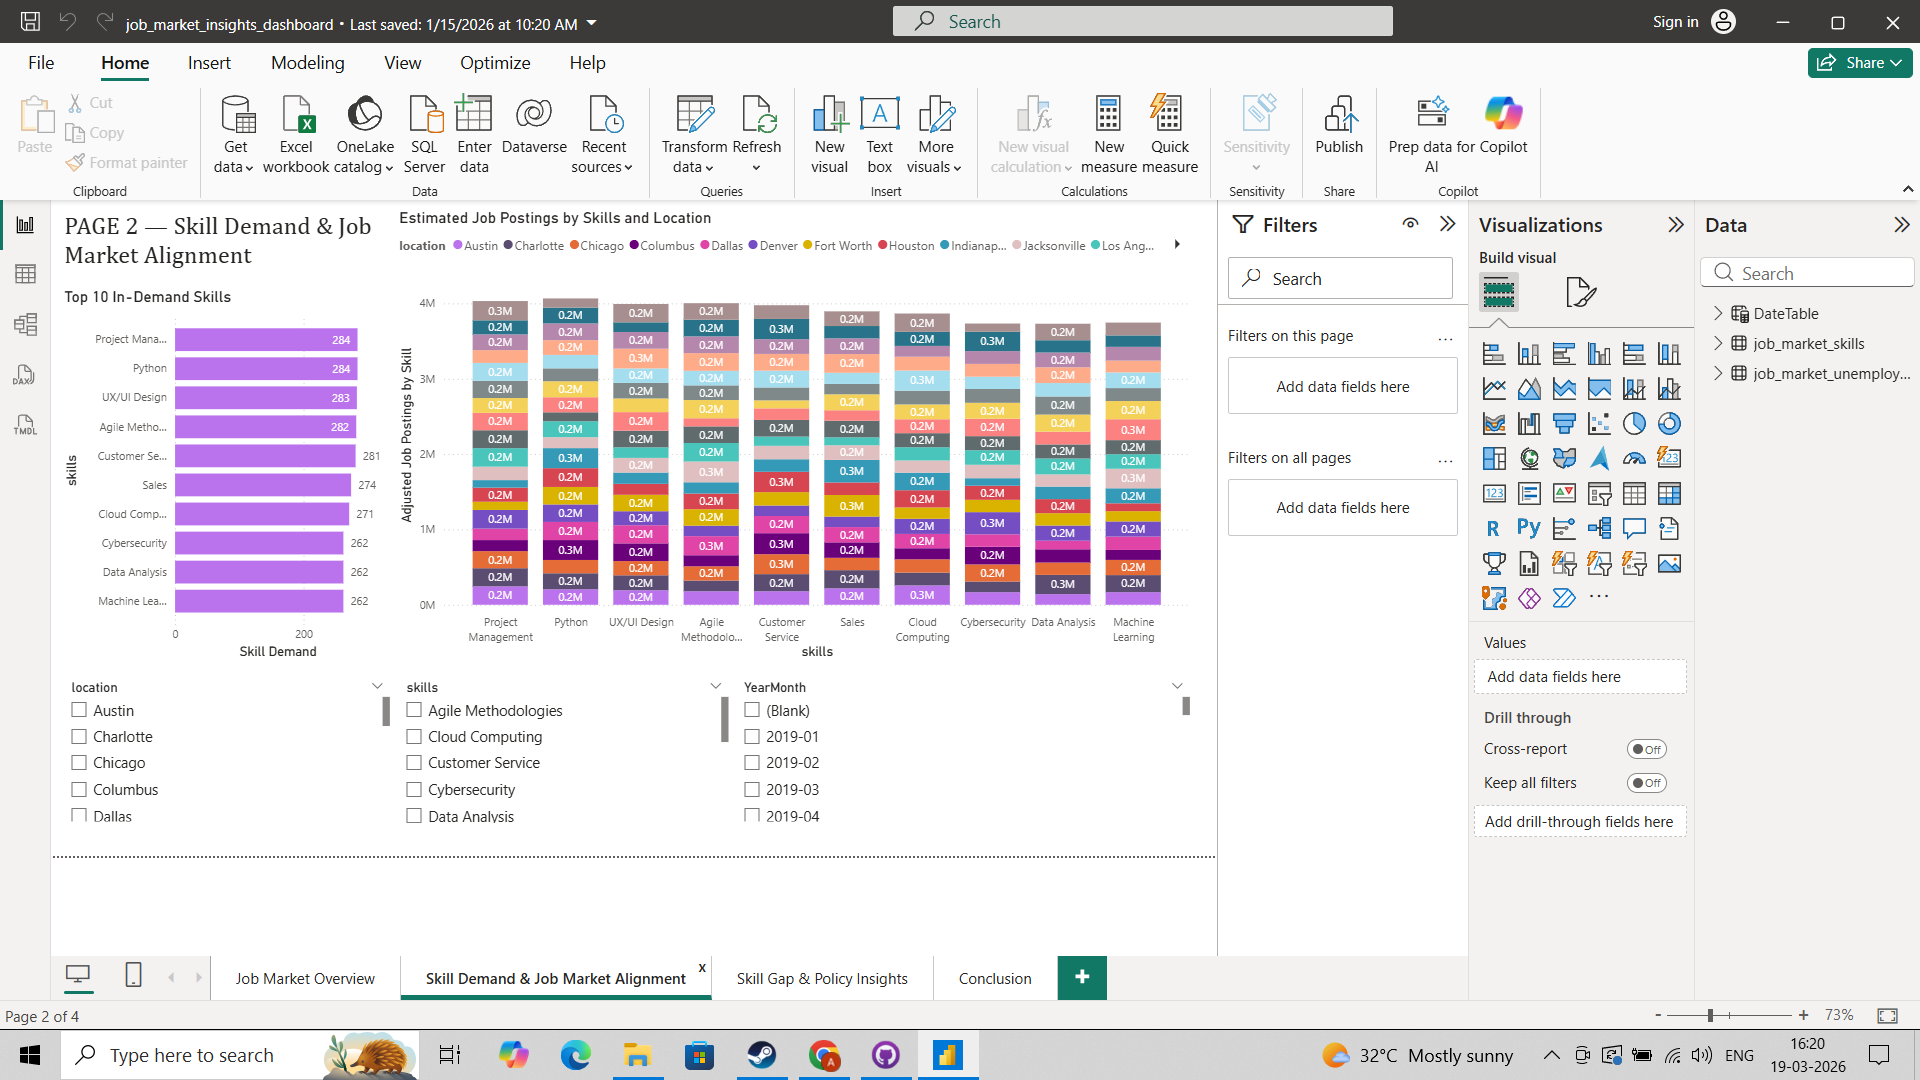

Layout of this report page (visuals, bound fields, positions):
{"tool":"powerbi","page":{"name":"Skill Demand & Job Market Alignment","canvas":[1280,720],"ordinal":1},"visuals":[{"type":"barChart","title":"Top 10 In-Demand Skills","fields":{"Category":["job_market_skills.skills"],"Y":["job_market_skills.Skill Demand"]},"box":[9.6,96.1,367.8,413],"z":0},{"type":"columnChart","title":"Estimated Job Postings by Skills and Location","fields":{"Category":["job_market_skills.skills"],"Series":["job_market_skills.location"],"Y":["job_market_unemployment_trends.Adjusted Job Postings by Skill"]},"box":[377.4,9.6,878.2,499.5],"z":1000},{"type":"slicer","fields":{"Values":["job_market_skills.skills"]},"box":[377.1,521.4,371.4,167.1],"z":2000},{"type":"slicer","fields":{"Values":["job_market_unemployment_trends.location"]},"box":[9.6,521.4,367.8,166],"z":3000},{"type":"slicer","fields":{"Values":["DateTable.YearMonth"]},"box":[747.9,521.4,507.7,166],"z":4000},{"type":"textbox","box":[9.6,9.6,367.8,86.4],"z":5000}]}

Visuals, with their boxes on the page's 1280x720 design canvas (x1, y1, x2, y2). These are canvas units, not pixel positions in the 1920x1080 screenshot, which may show the page scaled, cropped or inside an application window:
"Top 10 In-Demand Skills" barChart: box(10, 96, 377, 509)
"Estimated Job Postings by Skills and Location" columnChart: box(377, 10, 1256, 509)
slicer - job_market_skills.skills: box(377, 521, 748, 688)
slicer - job_market_unemployment_trends.location: box(10, 521, 377, 687)
slicer - DateTable.YearMonth: box(748, 521, 1256, 687)
textbox: box(10, 10, 377, 96)
